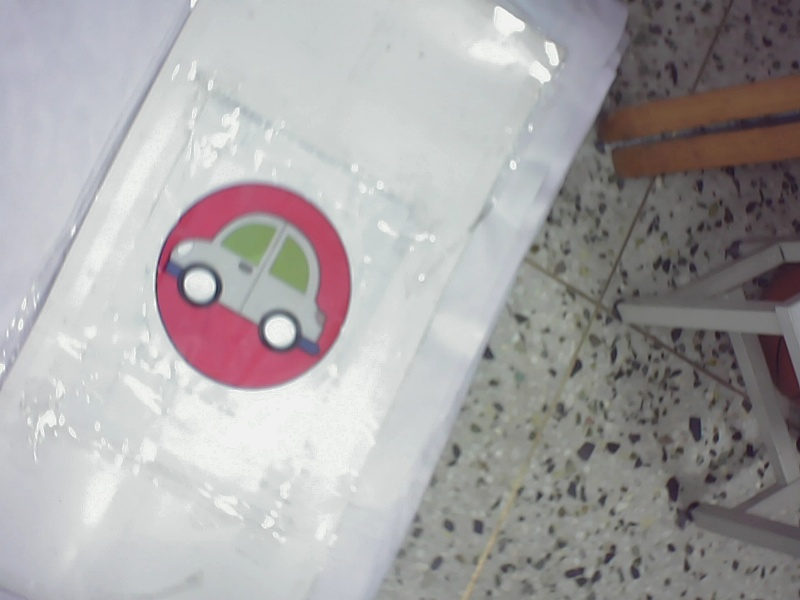areaC: (150, 171, 364, 403)
